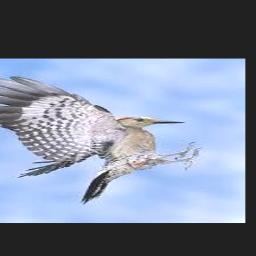Woodpecker: (0, 77, 203, 204)
